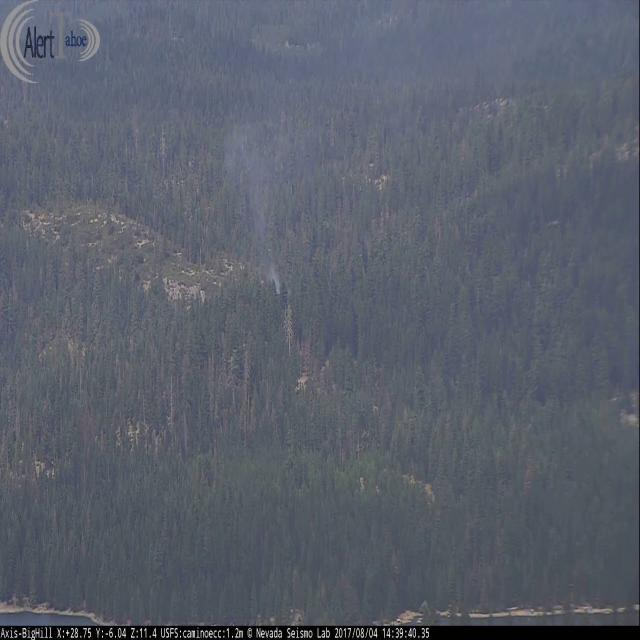smoke: (215, 105, 298, 312)
